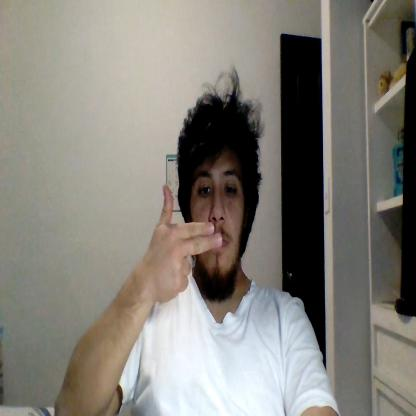H: (151, 184, 221, 302)
